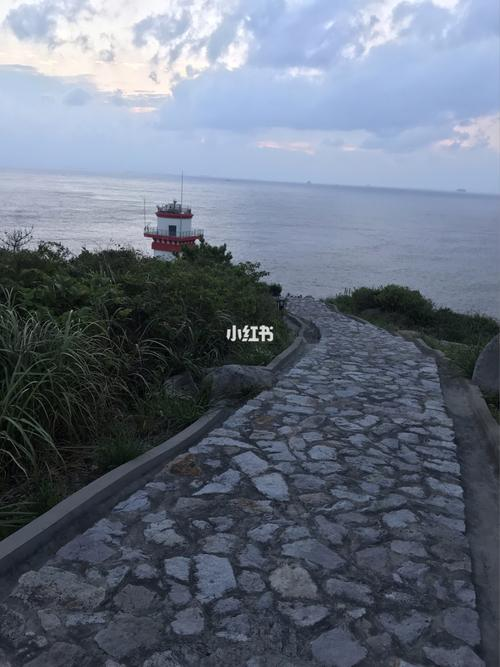mountain: (201, 329, 471, 554)
sea_river: (185, 176, 470, 276)
sky_cloud: (0, 27, 500, 174)
